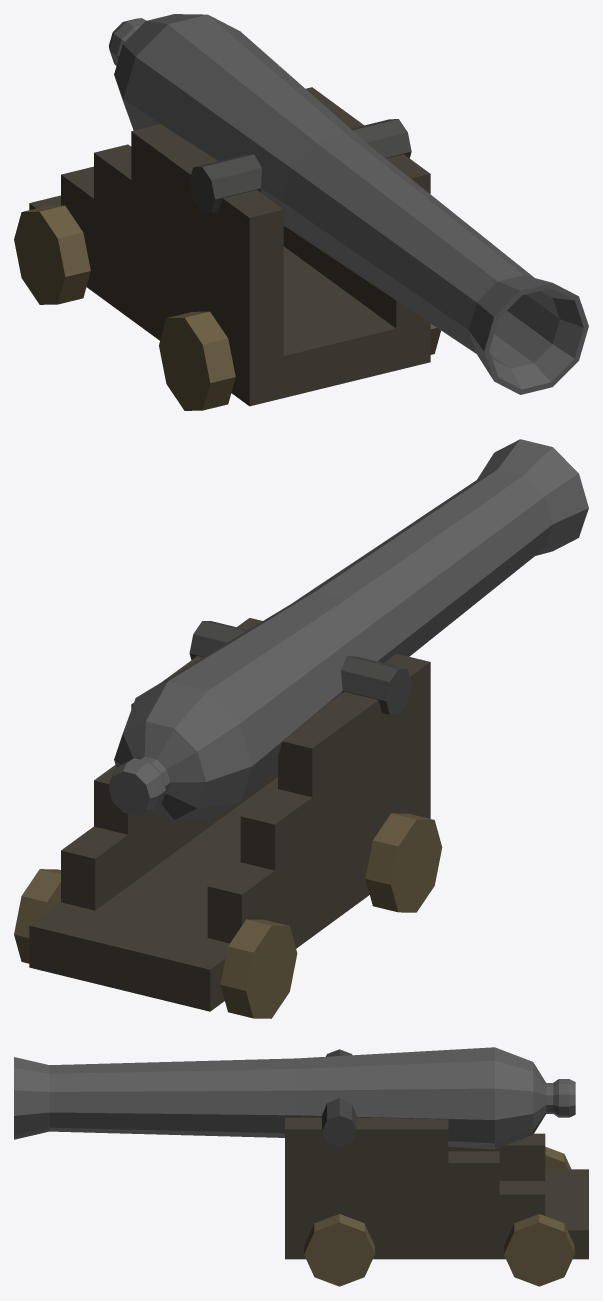
File: Cannon.fbx
3 views of the same model, one above another, from view 1: azimuth 30°, elevation 25°; view 2: azimuth 150°, elevation 25°; view 3: azimuth 270°, elevation 25° (orthographic). The views are drawn at different scales.
Parts seen in each view (by area): view 1: pDisc3; view 2: pDisc3; view 3: pDisc3.
Boxes of the visible parts, x1,y1,x2,y2 form: pDisc3: [14, 14, 588, 410]; pDisc3: [14, 439, 588, 1018]; pDisc3: [14, 1047, 588, 1286].
Size of the model in its own units: 3.97 by 4.59 by 12.34.
